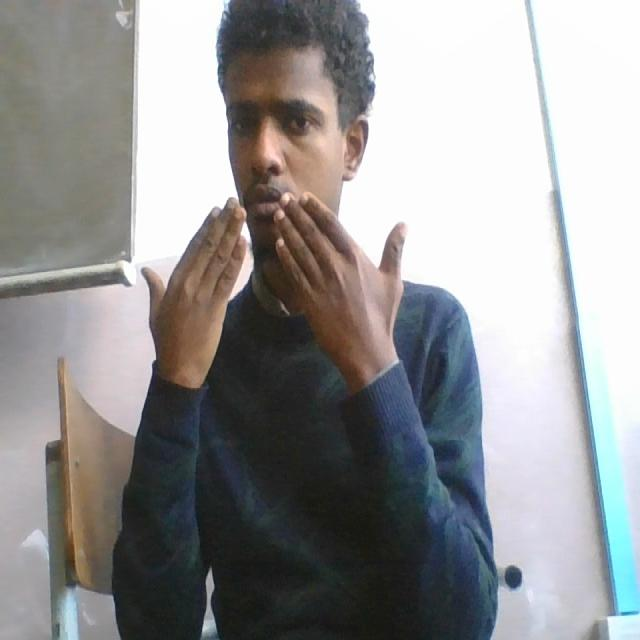ymesgen: (137, 181, 417, 390)
